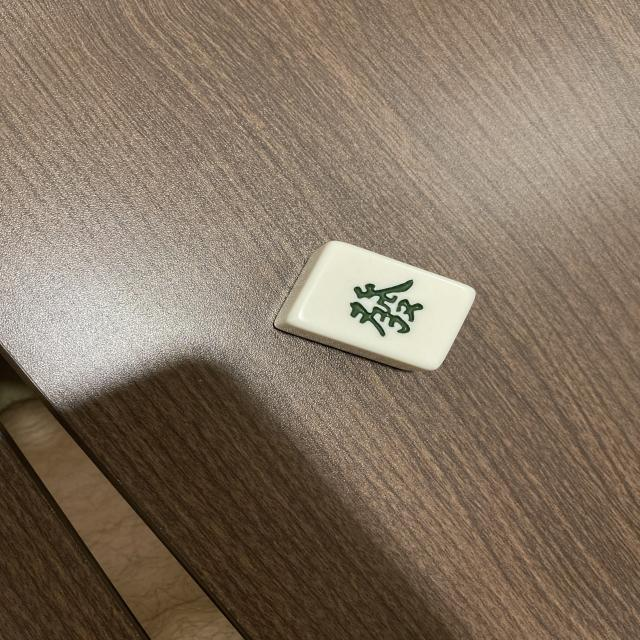fa: (291, 241, 473, 372)
